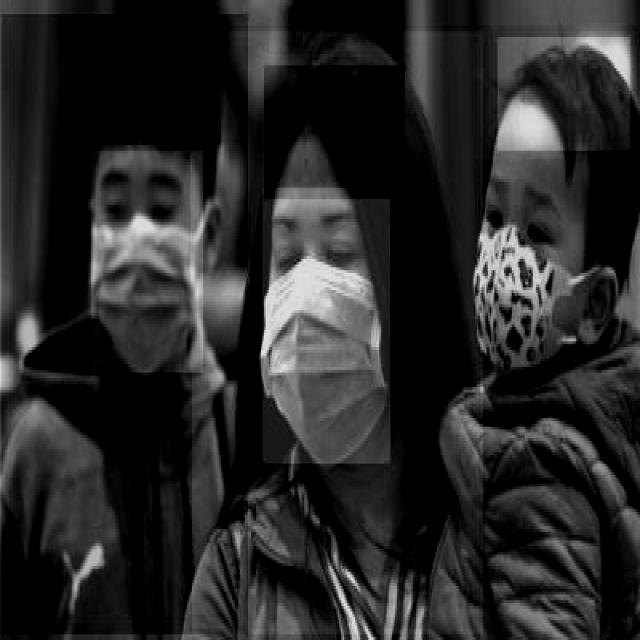face_mask: (262, 187, 390, 463), (90, 151, 203, 375), (472, 159, 587, 373)
head_nohelmet: (262, 65, 405, 202), (496, 37, 630, 154), (88, 54, 221, 148)
person: (191, 31, 484, 637), (2, 14, 248, 640), (442, 25, 640, 637)
